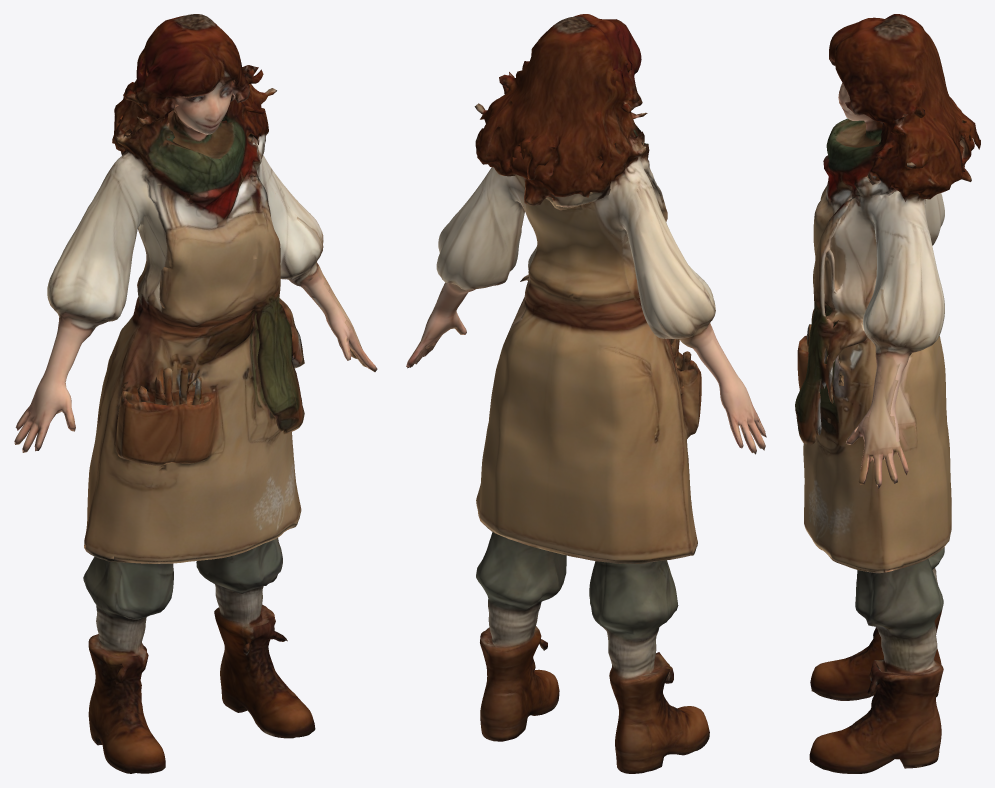
File: girl.glb
3 views of the same model, side by side, from view 1: azimuth 30°, elevation 25°; view 2: azimuth 150°, elevation 25°; view 3: azimuth 270°, elevation 25° (orthographic).
Parts seen in each view (by area): view 1: Object_4; view 2: Object_4; view 3: Object_4.
Boxes of the visible parts, left/top/right/bottom form: Object_4: left=14, top=14, right=377, bottom=773; Object_4: left=406, top=14, right=766, bottom=773; Object_4: left=795, top=14, right=980, bottom=773.
Size of the model in its own units: 1.03 by 2 by 0.476.
1 material, 1 textured.
